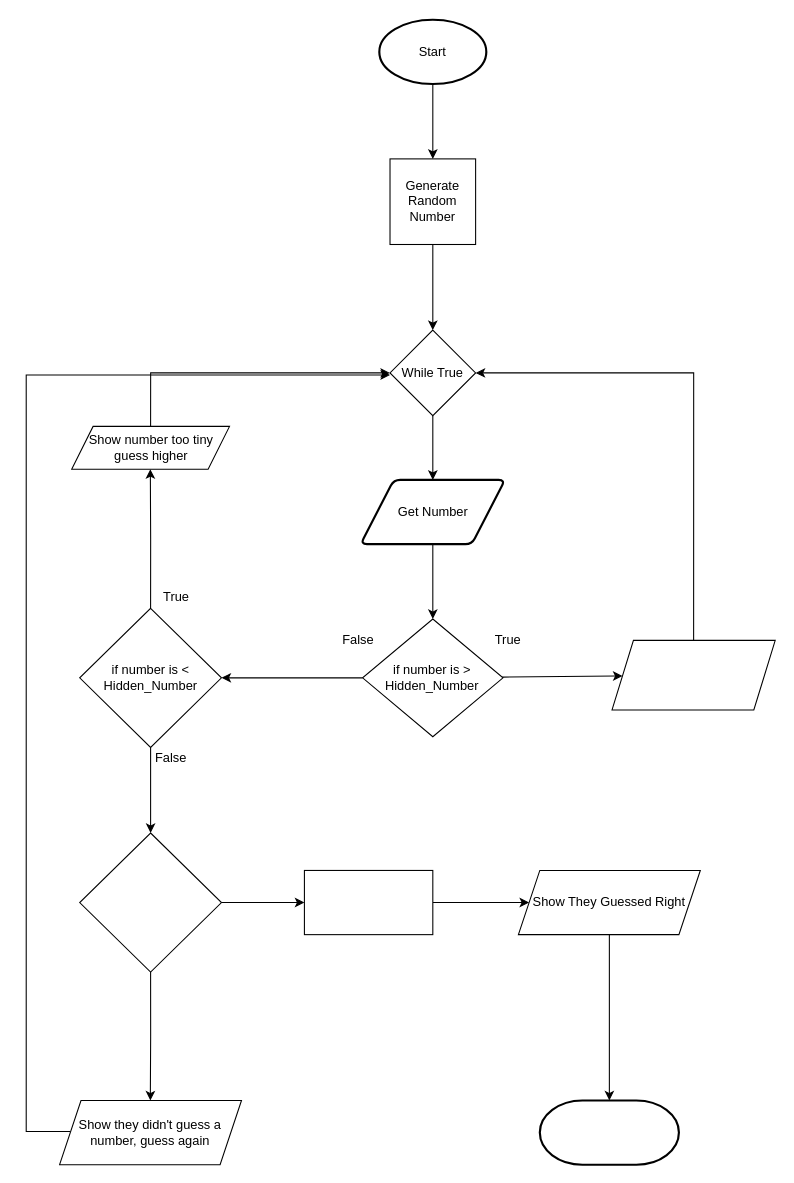
This 794x1183 diagram has some shape labels left out. Each missing label, with the centre of its shape:
Break: (368,902)
if number = Hidden_Number: (150,902)
Show number is too big, guess lower: (693,674)
Stop: (608,1132)
